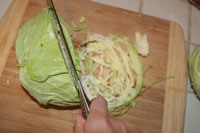cabbage: (15, 9, 86, 110)
